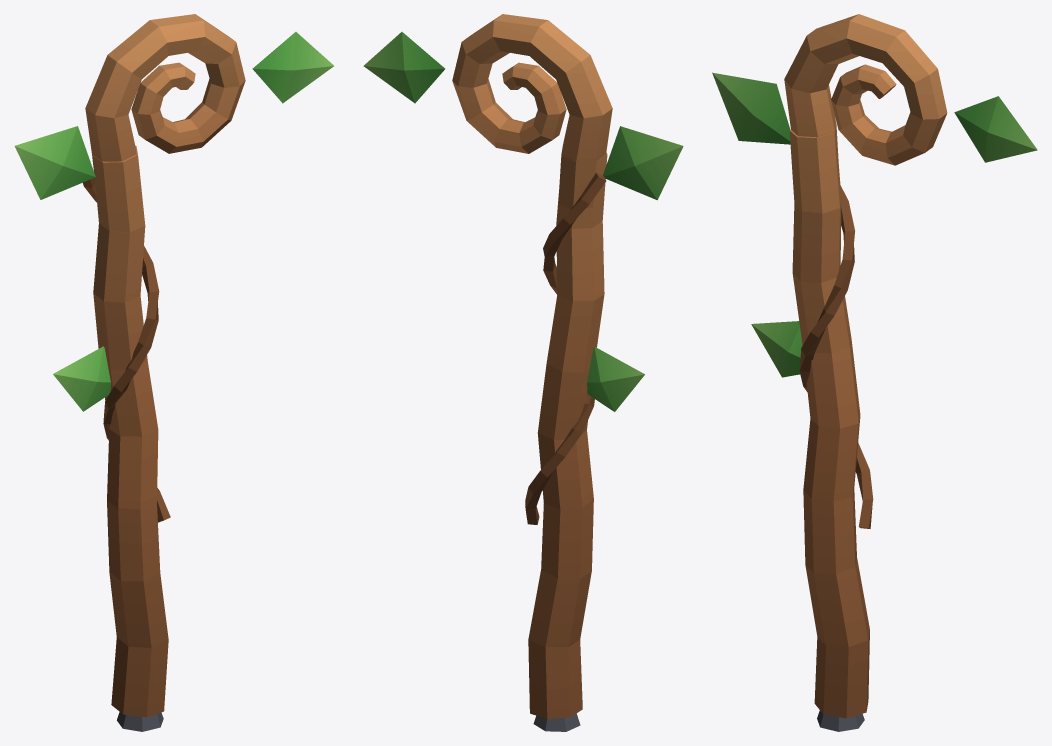
The model's file is oakStaff.glb.
3 views of the same model, side by side, from view 1: azimuth 30°, elevation 25°; view 2: azimuth 150°, elevation 25°; view 3: azimuth 330°, elevation 25° (orthographic).
Parts seen in each view (by area): view 1: oakStaff; view 2: oakStaff; view 3: oakStaff.
Part boxes in pixels (x1,y1,x2,y2): oakStaff: (14, 14, 333, 731); oakStaff: (363, 14, 683, 731); oakStaff: (712, 14, 1037, 731).
Bounding box in the file's own units: 1.15 × 2.38 × 0.2024.
1 material, 1 textured.
